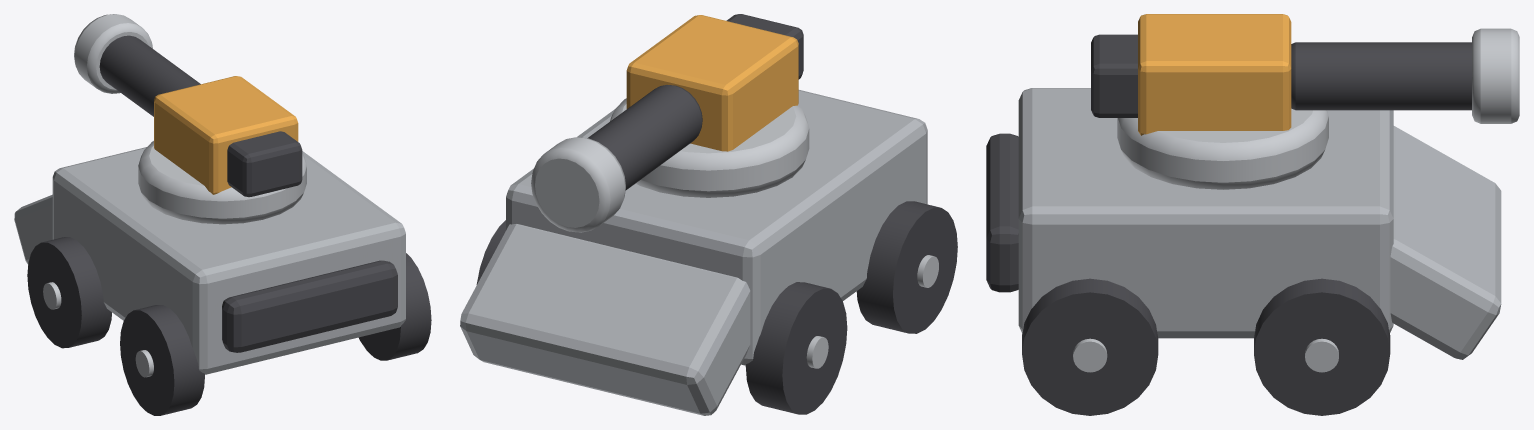
Rendered from robot_medium_cannon_standard.glb.
3 renders of one model, left to right at view 1: azimuth 30°, elevation 25°; view 2: azimuth 150°, elevation 25°; view 3: azimuth 270°, elevation 25°, orthographic. The views are drawn at different scales.
Parts seen in each view (by area): view 1: robot_medium_cannon_standard, robot_medium_cannon_standard_gun, robot_medium_cannon_standard_wheel0, robot_medium_cannon_standard_wheel1, robot_medium_cannon_standard_wheel2; view 2: robot_medium_cannon_standard, robot_medium_cannon_standard_gun, robot_medium_cannon_standard_wheel1, robot_medium_cannon_standard_wheel0, robot_medium_cannon_standard_wheel3; view 3: robot_medium_cannon_standard, robot_medium_cannon_standard_gun, robot_medium_cannon_standard_wheel2, robot_medium_cannon_standard_wheel3.
Part boxes in pixels (<box>): robot_medium_cannon_standard: <box>14,141,405,374</box>; robot_medium_cannon_standard_gun: <box>74,14,302,197</box>; robot_medium_cannon_standard_wheel0: <box>120,305,204,415</box>; robot_medium_cannon_standard_wheel1: <box>27,237,111,348</box>; robot_medium_cannon_standard_wheel2: <box>358,253,431,360</box>; robot_medium_cannon_standard: <box>460,90,927,415</box>; robot_medium_cannon_standard_gun: <box>531,14,803,232</box>; robot_medium_cannon_standard_wheel1: <box>745,282,847,414</box>; robot_medium_cannon_standard_wheel0: <box>856,201,957,333</box>; robot_medium_cannon_standard_wheel3: <box>476,220,505,284</box>; robot_medium_cannon_standard: <box>986,88,1501,359</box>; robot_medium_cannon_standard_gun: <box>1091,14,1519,135</box>; robot_medium_cannon_standard_wheel2: <box>1022,278,1158,415</box>; robot_medium_cannon_standard_wheel3: <box>1254,278,1390,415</box>.
Size of what is drawn, in the model's own units: 3.62 by 3.15 by 5.01.
